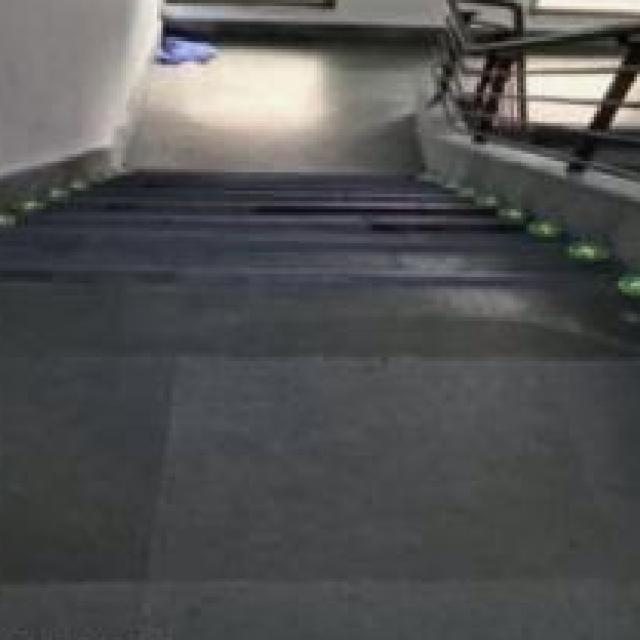downstair: (32, 170, 490, 361)
